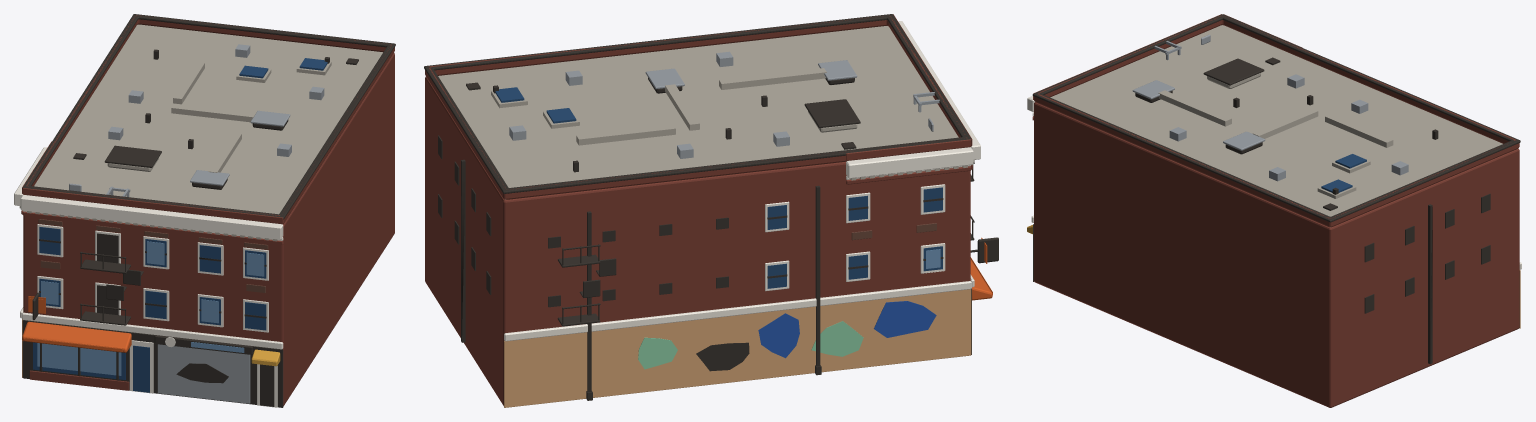
File: 521-third.optimized.glb
3 renders of one model, left to right at view 1: azimuth 30°, elevation 25°; view 2: azimuth 150°, elevation 25°; view 3: azimuth 270°, elevation 25°, orthographic. The views are drawn at different scales.
Visible parts, largest first — view 1: body, grp_Toy_ink, grp_Toy_cream, grp_Toy_oxblood, grp_Toy_steel, grp_Toy_glass, grp_Toy_glass_Glow, grp_Toy_greige, grp_Toy_orange, grp_Toy_cocoa, grp_Toy_orange_Glow, ap_awning; view 2: body, tb_stucco, grp_Toy_ink, grp_Toy_cream, grp_Toy_oxblood, grp_Toy_greige, grp_Toy_glass, grp_Toy_cobalt, grp_Toy_steel, grp_Toy_mint, grp_Toy_orange; view 3: body, grp_Toy_ink, grp_Toy_oxblood, grp_Toy_greige, grp_Toy_steel, grp_Toy_glass.
Boxes of the visible parts, box(x1,y1,x2,y2) form: body: box(23, 24, 394, 406); grp_Toy_ink: box(22, 14, 395, 407); grp_Toy_cream: box(14, 147, 283, 407); grp_Toy_oxblood: box(21, 15, 394, 390); grp_Toy_steel: box(69, 44, 324, 403); grp_Toy_glass: box(33, 58, 327, 392); grp_Toy_glass_Glow: box(37, 241, 264, 375); grp_Toy_greige: box(19, 58, 331, 241); grp_Toy_orange: box(22, 296, 131, 352); grp_Toy_cocoa: box(38, 219, 268, 292); grp_Toy_orange_Glow: box(25, 298, 122, 352); ap_awning: box(251, 349, 280, 366); body: box(425, 26, 970, 405); tb_stucco: box(504, 289, 971, 407); grp_Toy_ink: box(424, 14, 998, 400); grp_Toy_cream: box(504, 21, 980, 341); grp_Toy_oxblood: box(425, 14, 972, 199); grp_Toy_greige: box(491, 68, 974, 180); grp_Toy_glass: box(495, 87, 942, 288); grp_Toy_cobalt: box(758, 301, 936, 358); grp_Toy_steel: box(509, 51, 939, 158); grp_Toy_mint: box(638, 321, 863, 369); grp_Toy_orange: box(970, 237, 992, 300); body: box(1034, 25, 1519, 407); grp_Toy_ink: box(1032, 14, 1520, 363); grp_Toy_oxblood: box(1032, 14, 1519, 227); grp_Toy_greige: box(1158, 73, 1393, 198); grp_Toy_steel: box(1132, 34, 1408, 181); grp_Toy_glass: box(1321, 154, 1366, 192).
Size of the model in its own units: 27.36 by 11.4 by 27.1.
